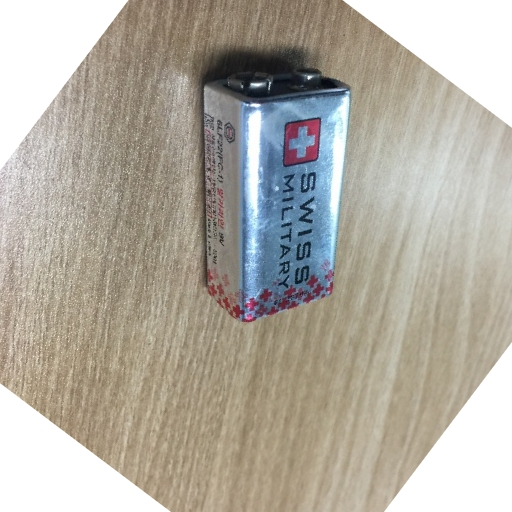Battery_3: (192, 52, 366, 332)
